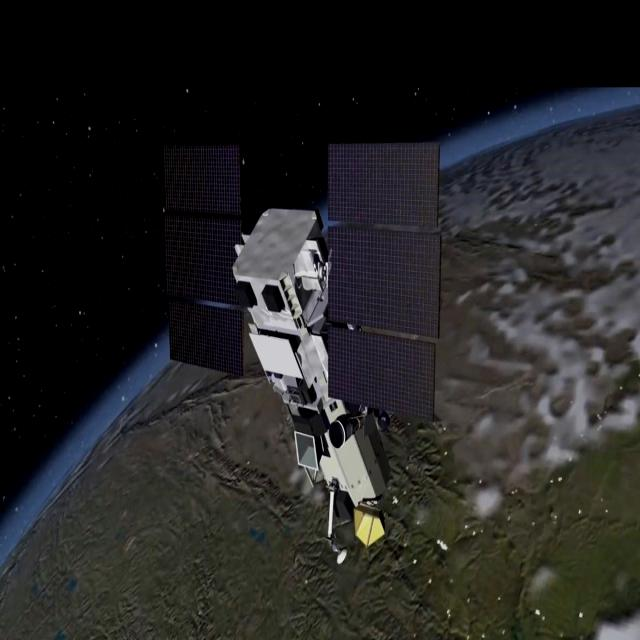satellite: (154, 116, 455, 579)
